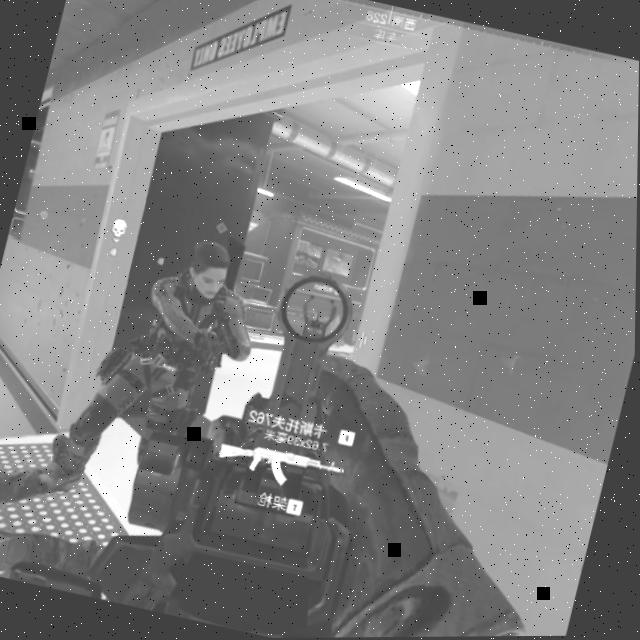MW2_body: (43, 197, 280, 523)
